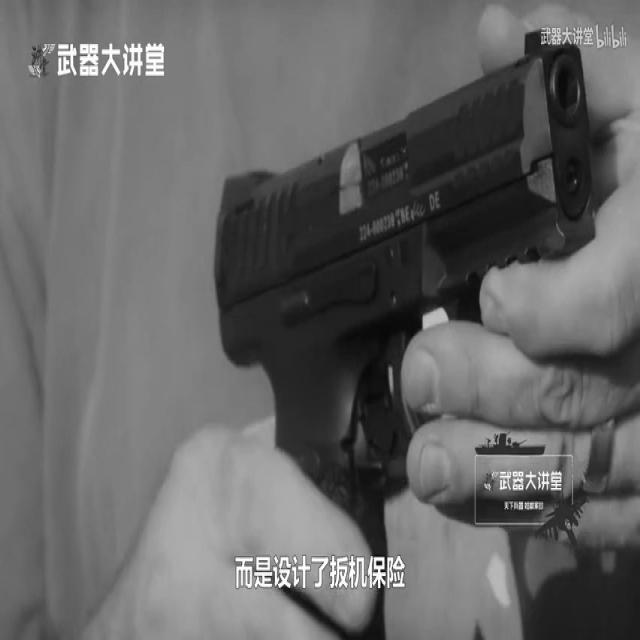Hand-Gun: (194, 0, 617, 640)
